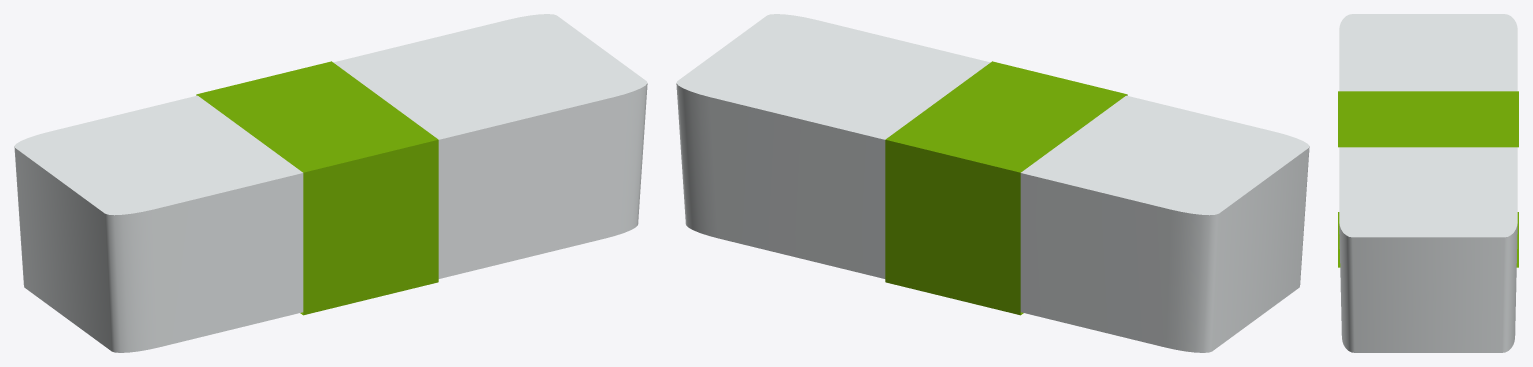
Rendered from item-egg_12.glb.
The picture shows the model from 3 angles, left to right: view 1: azimuth 30°, elevation 25°; view 2: azimuth 150°, elevation 25°; view 3: azimuth 270°, elevation 25°; orthographic projection. The views are drawn at different scales.
Visible parts, largest first — view 1: body, label; view 2: body, label; view 3: body, label.
Boxes of the visible parts, x1,y1,x2,y2 form: body: [14, 14, 647, 352]; label: [196, 61, 438, 315]; body: [676, 14, 1309, 352]; label: [885, 61, 1127, 315]; body: [1339, 14, 1517, 352]; label: [1338, 91, 1518, 267].
Bounding box in the file's own units: 0.29 × 0.0729 × 0.0992.
